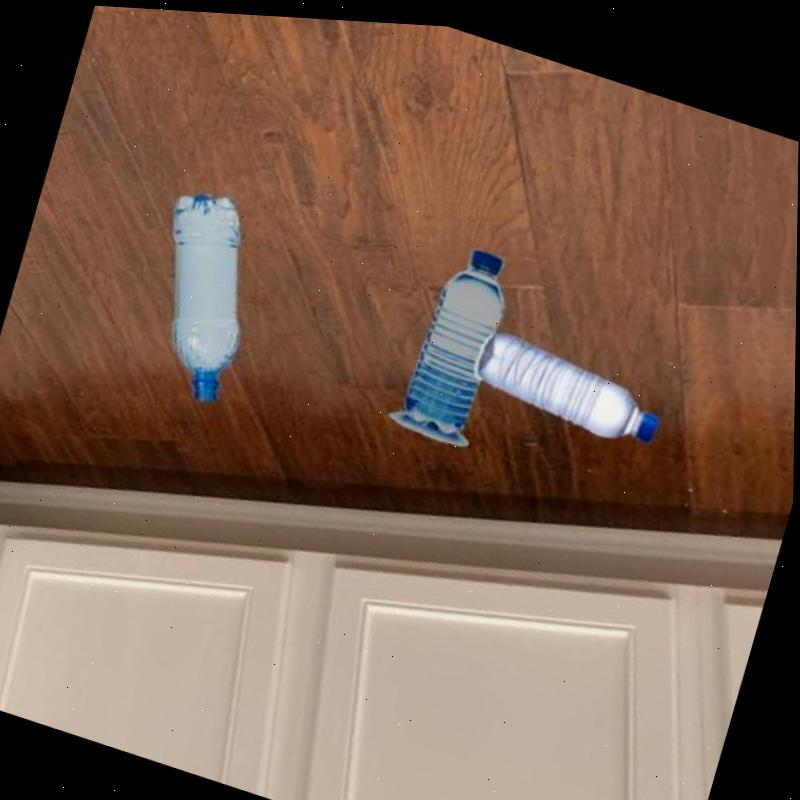botella: (123, 177, 276, 404), (468, 320, 673, 446), (402, 231, 520, 439)
